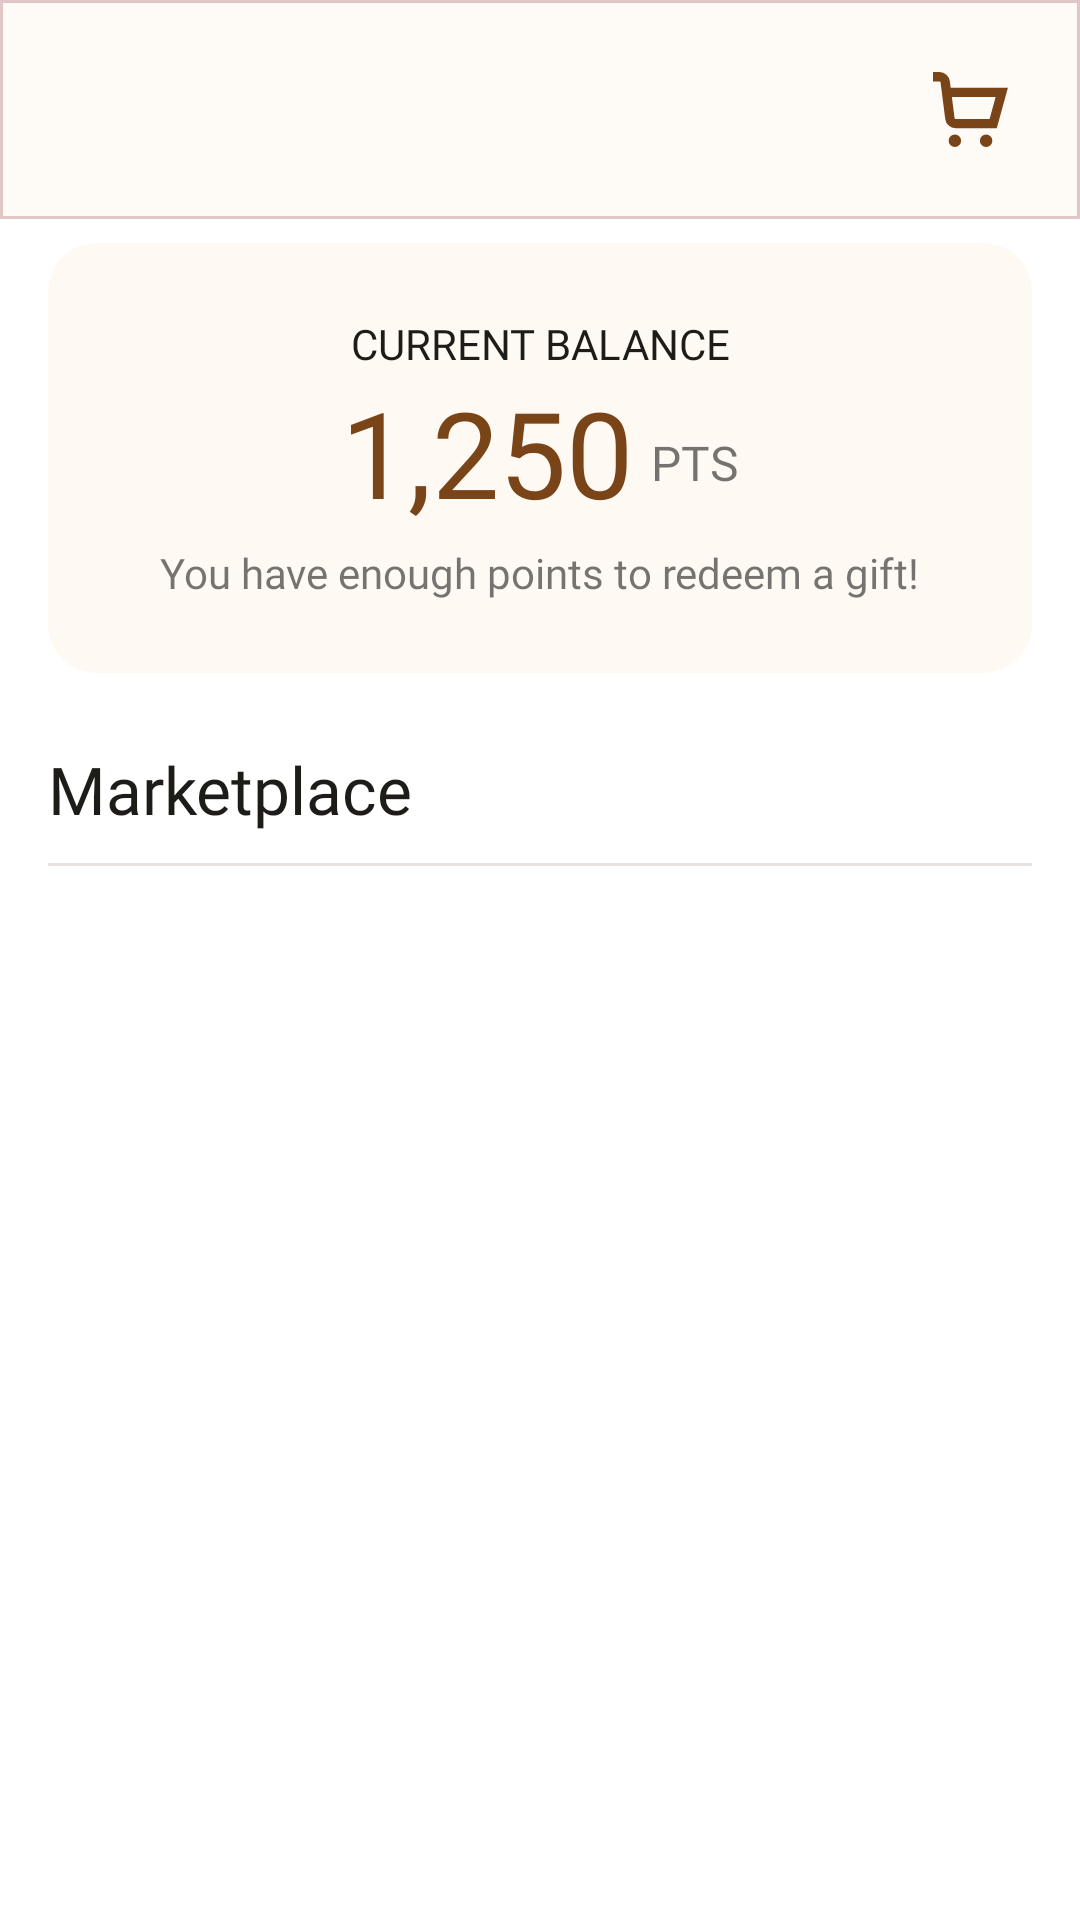

Where to tap for icons on this 1080x1920 app screen, as (x=x, y=y):
cart: (x=970, y=109)
